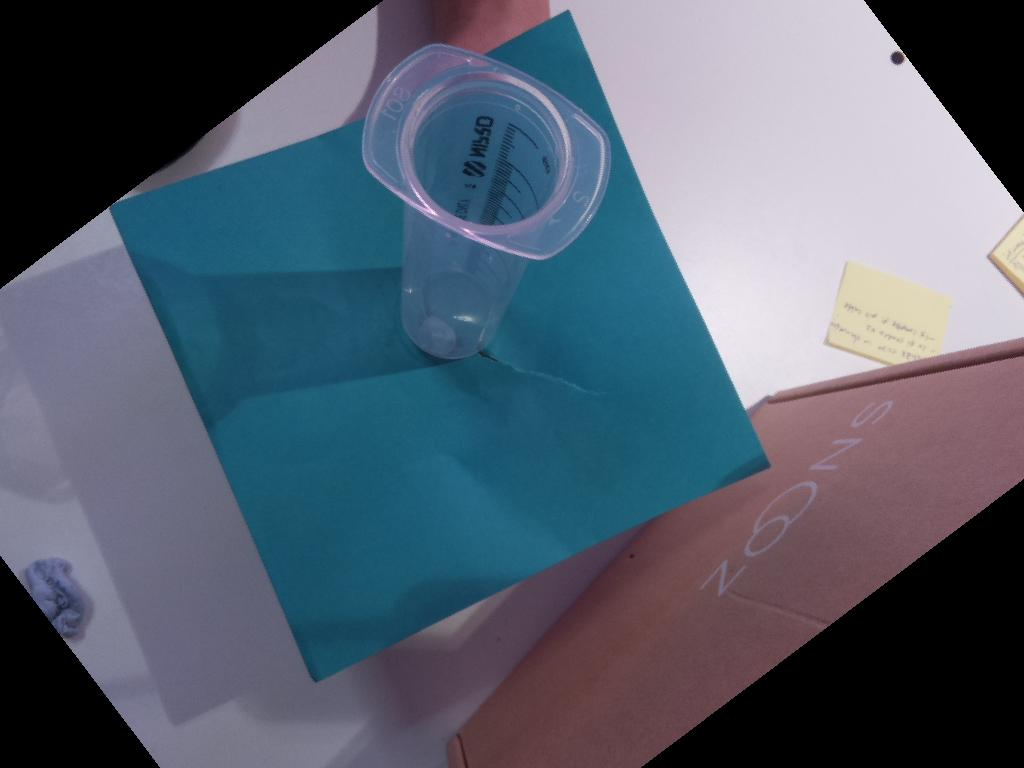clean: (361, 45, 614, 258)
